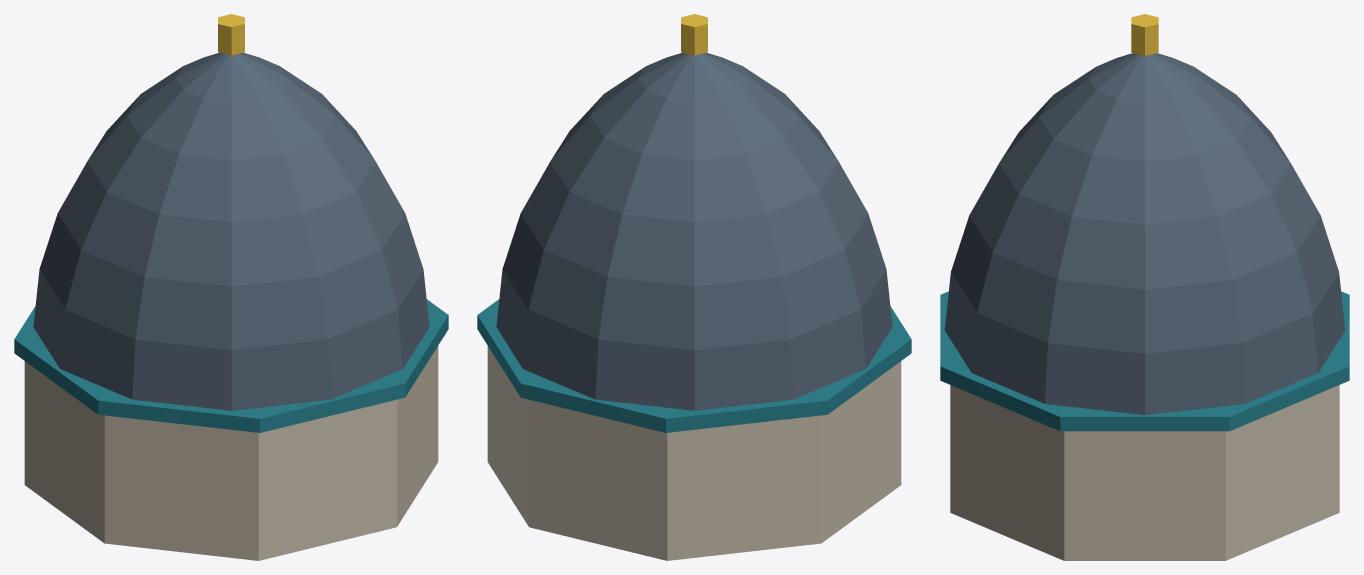
Rendered from dome-ribbed.glb.
3 views of the same model, side by side, from view 1: azimuth 30°, elevation 25°; view 2: azimuth 150°, elevation 25°; view 3: azimuth 270°, elevation 25° (orthographic).
Visible parts, largest first — view 1: dome-ribbed; view 2: dome-ribbed; view 3: dome-ribbed.
Boxes of the visible parts, <box> form: dome-ribbed: <box>14,14,448,560</box>; dome-ribbed: <box>477,14,911,560</box>; dome-ribbed: <box>940,14,1349,560</box>.
Size of the model in its own units: 0.7761 by 0.9587 by 0.7761.
